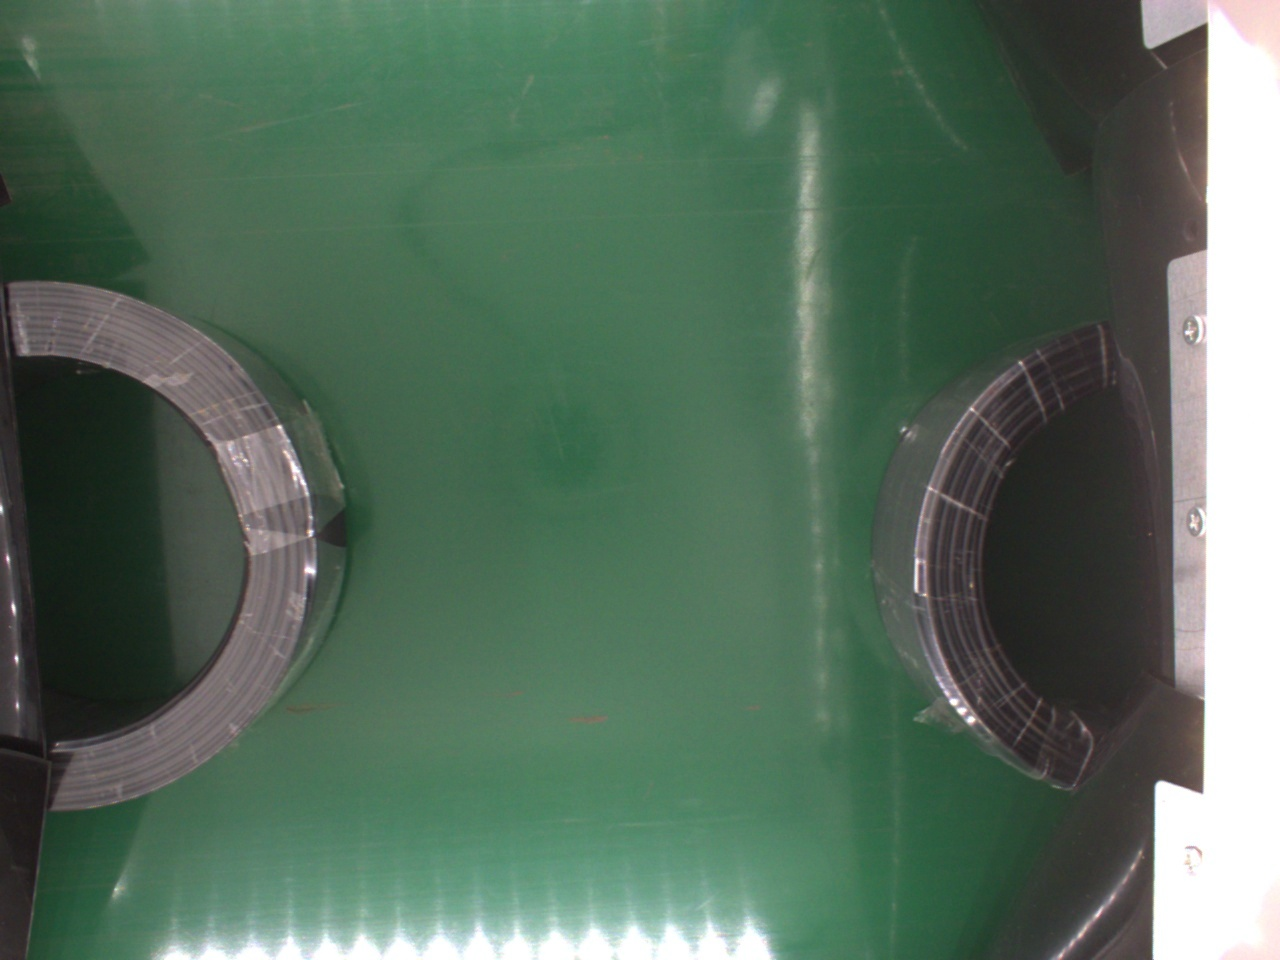black: (9, 276, 348, 818), (870, 320, 1143, 794)
